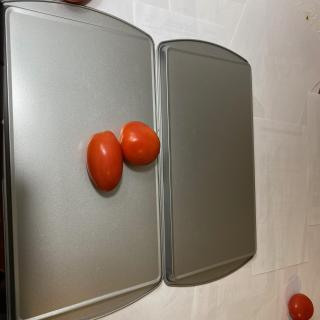Tomato: (86, 130, 123, 192), (119, 121, 160, 166), (288, 293, 314, 320)
